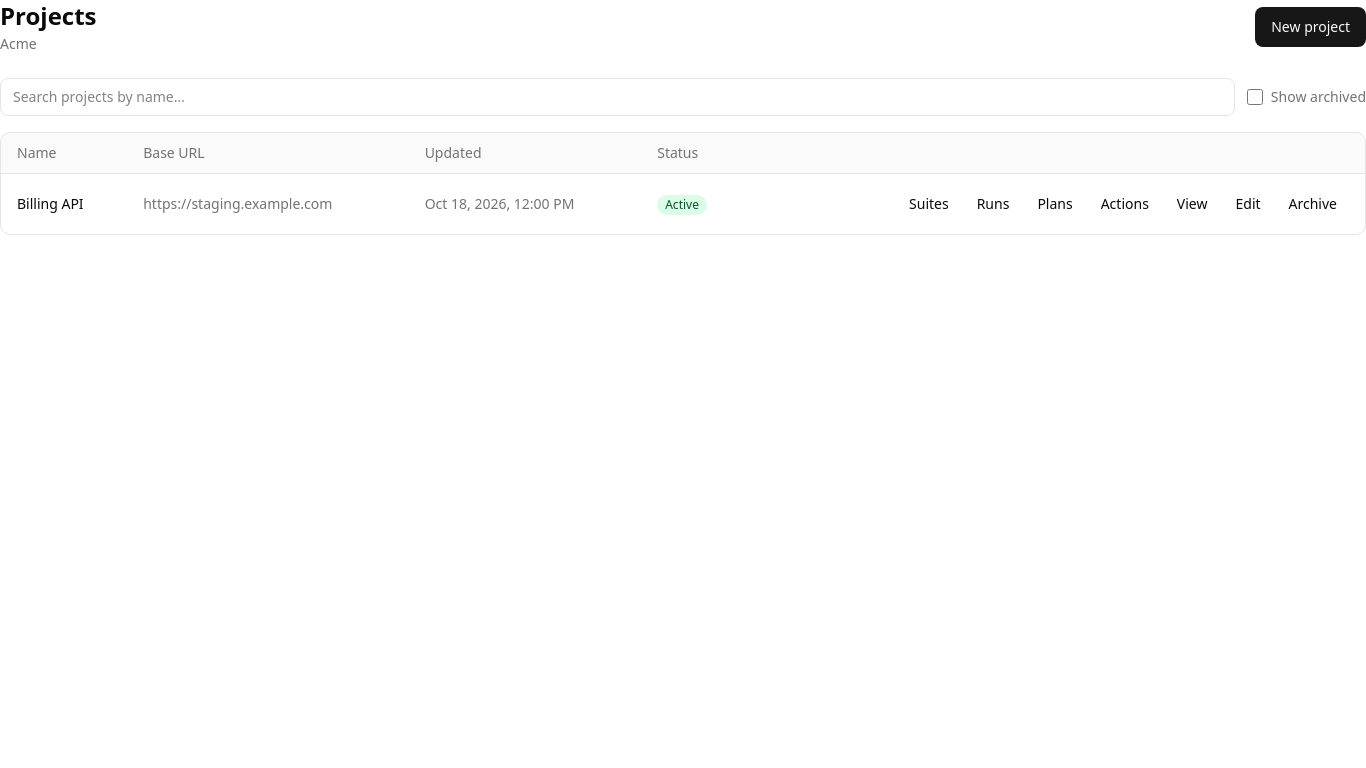
Test: ProjectsManager › creates a project and shows a success notice
Expected: the text "Billing API" is shown, [1,174,127,234]
Click the button "New project". click: (1311, 27)
box: [1255,7,1365,47]
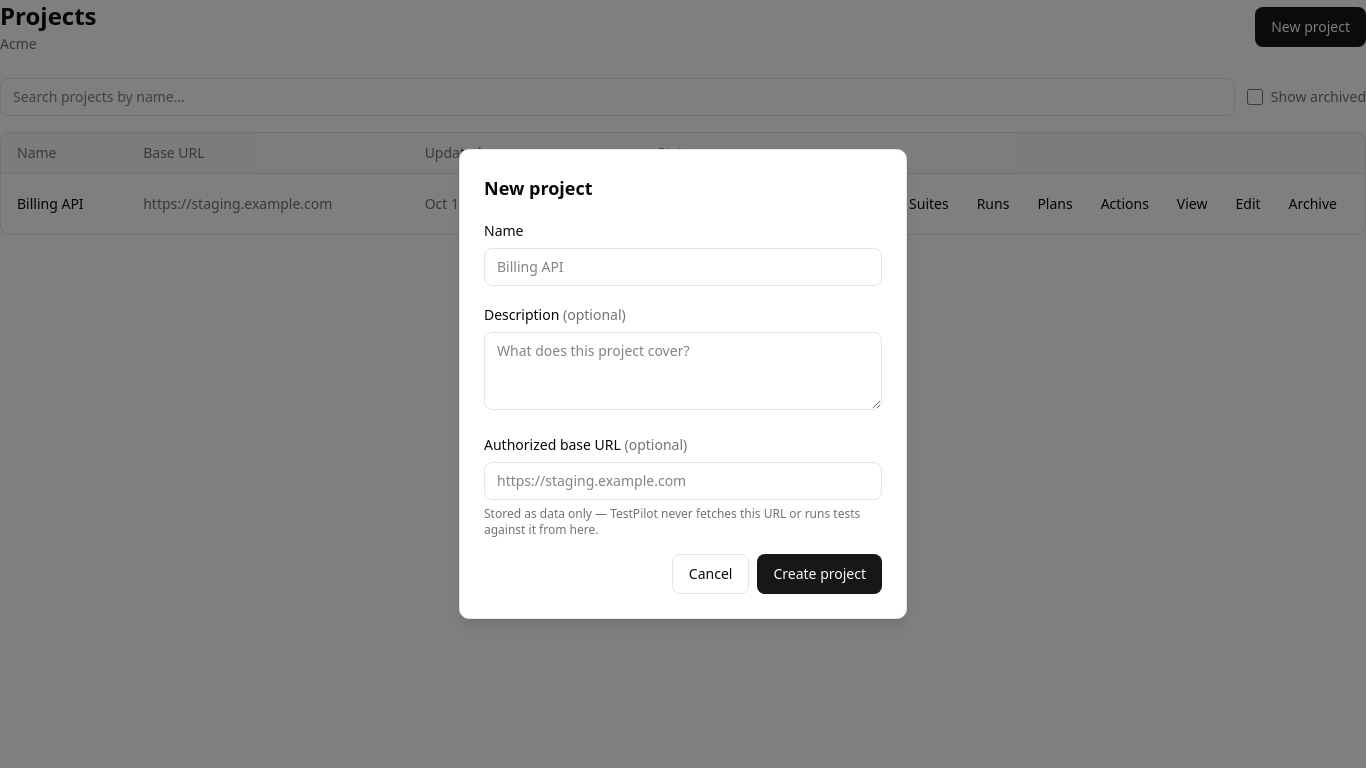
Type "Search Service" into the field labelled "Name". click: (683, 267)
box: [484,248,882,286]
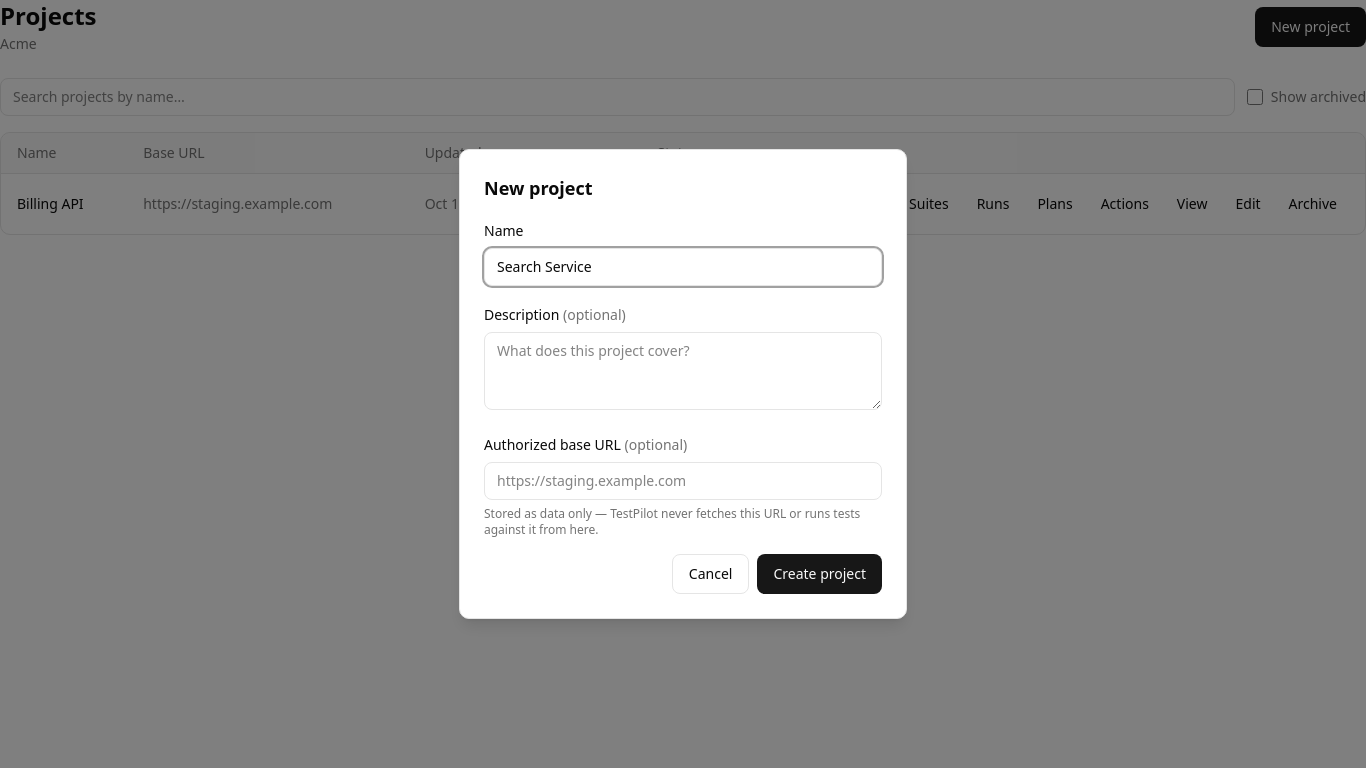
Click the button "Create project". click: (820, 574)
box: [757,554,882,594]
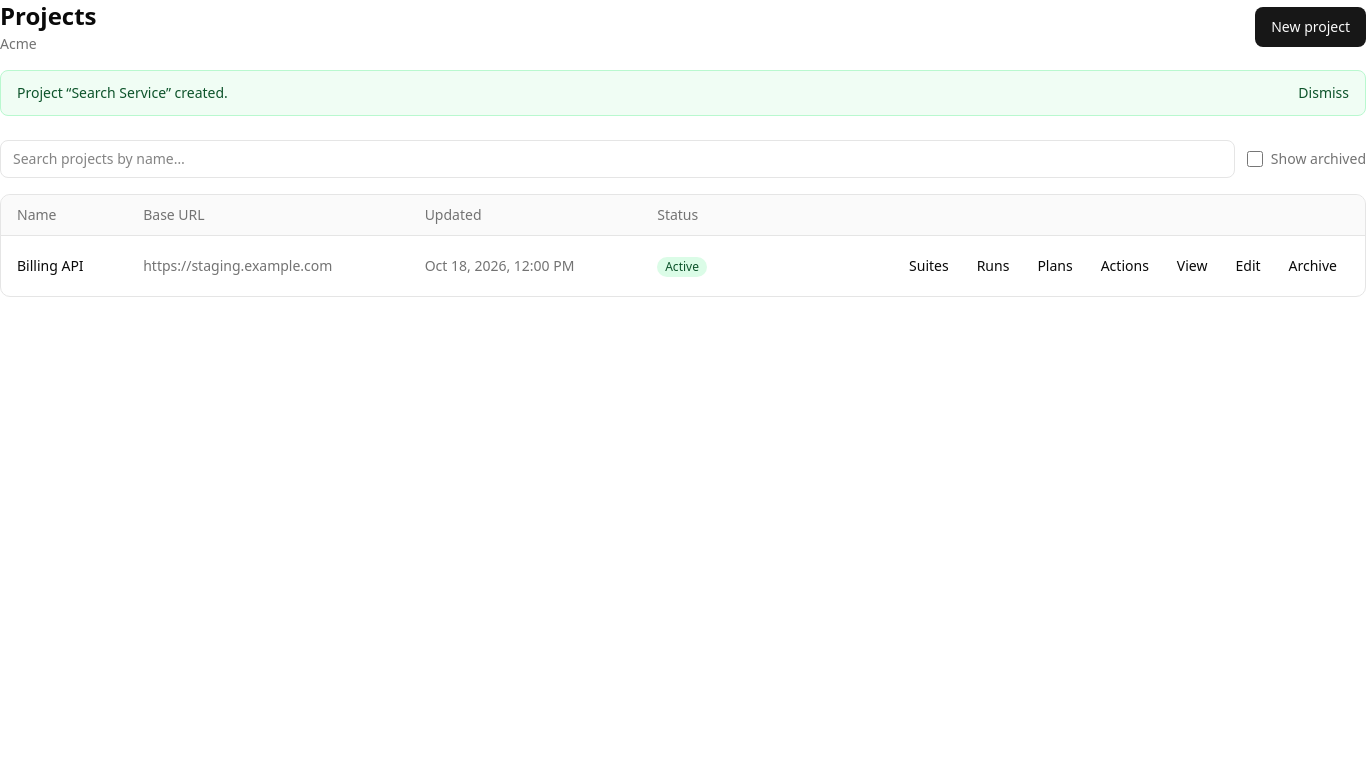
Expected: the message reads "Project “Search Service” created.", [17,83,228,102]
